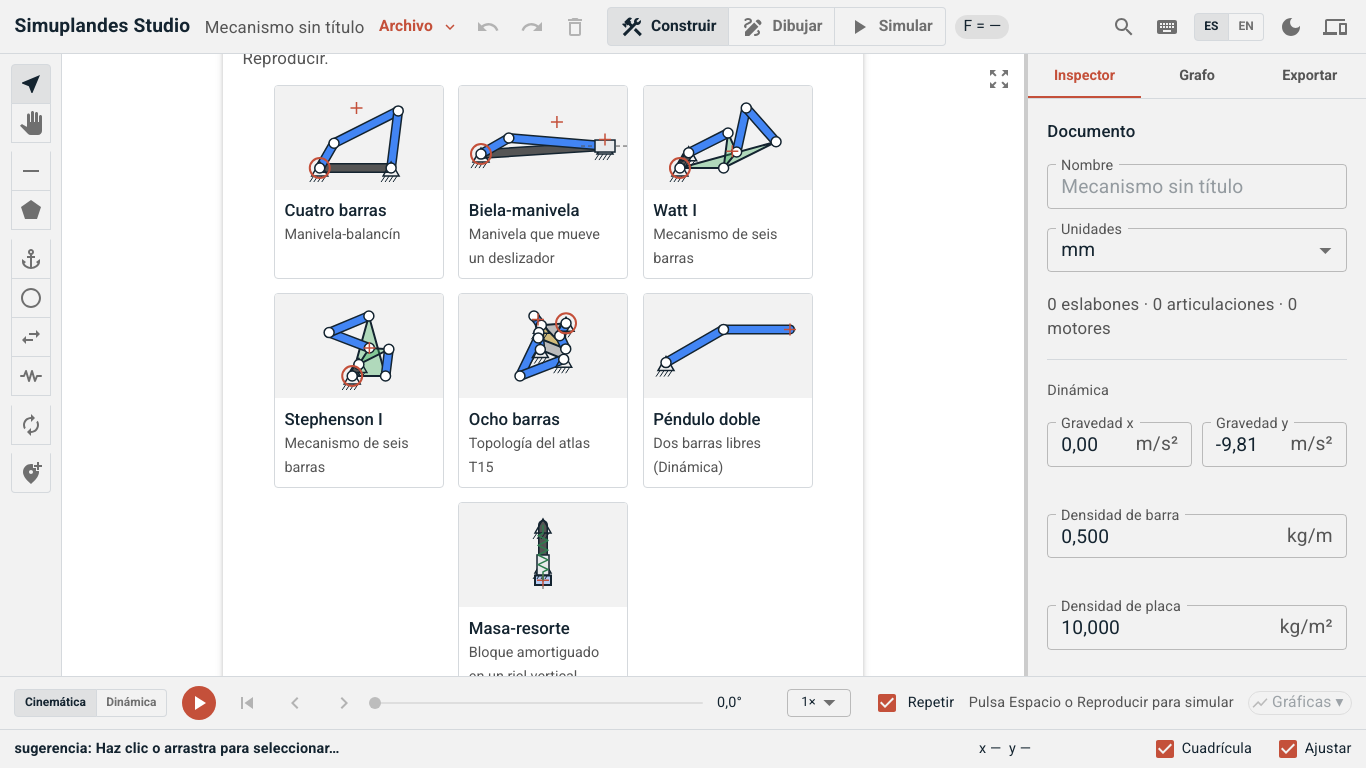
Test: App theme switch (StudioShell wired through App) › toggling the theme flips the MUI palette mode and the injected body background color
Click the button named "Oscuro". click: (1291, 27)
box: [1274,10,1308,44]
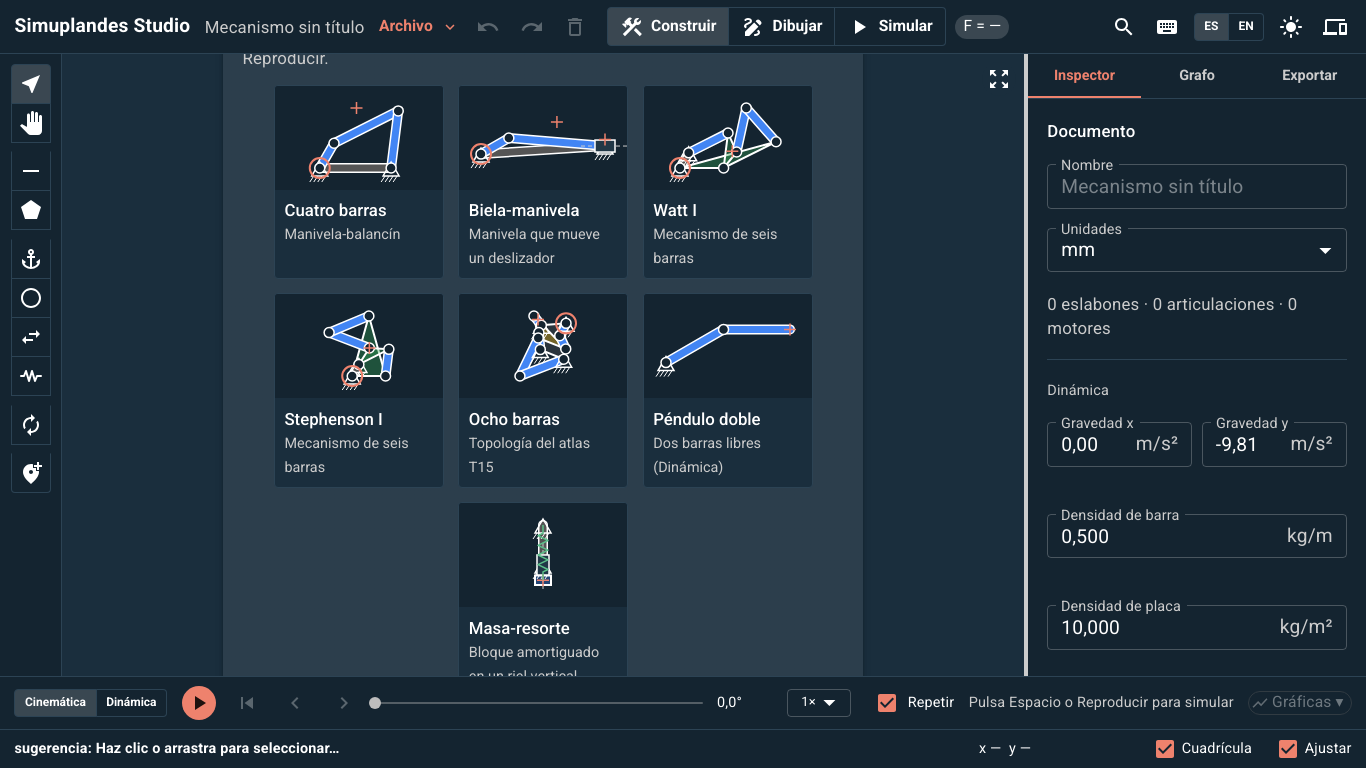
Expected: the button named "Claro" is shown, [1274,10,1308,44]
